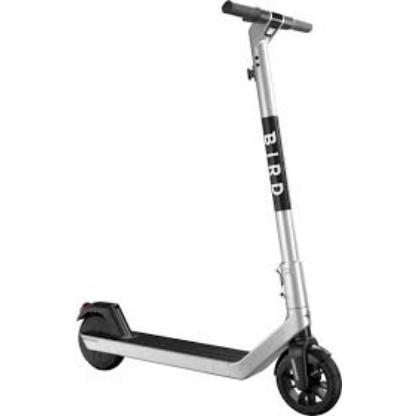bike: (70, 2, 346, 416)
